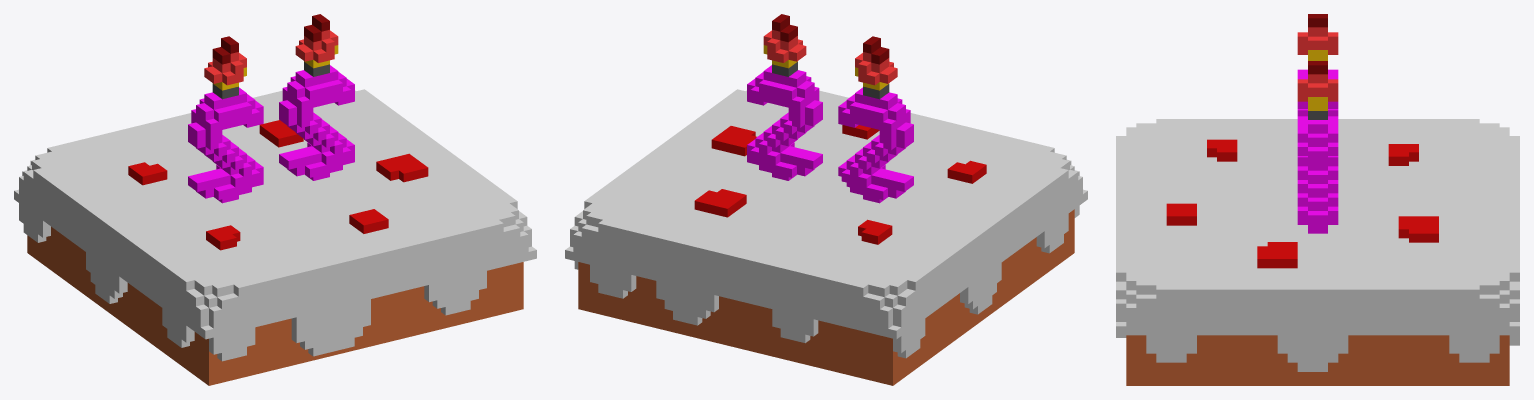
3 renders of one model, left to right at view 1: azimuth 30°, elevation 25°; view 2: azimuth 150°, elevation 25°; view 3: azimuth 270°, elevation 25°, orthographic. The views are drawn at different scales.
Visible parts, largest first — view 1: Node5; view 2: Node5; view 3: Node5.
Part boxes in pixels (<box>): Node5: <box>14,14,536,385</box>; Node5: <box>565,14,1087,385</box>; Node5: <box>1116,14,1519,385</box>.
Size of the model in its own units: 0.04 by 0.029 by 0.04.
